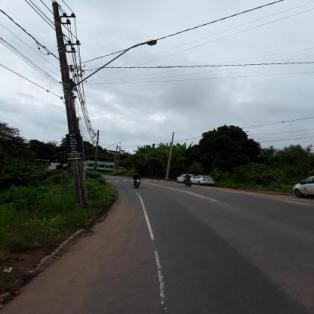Poste: (48, 2, 91, 206)
